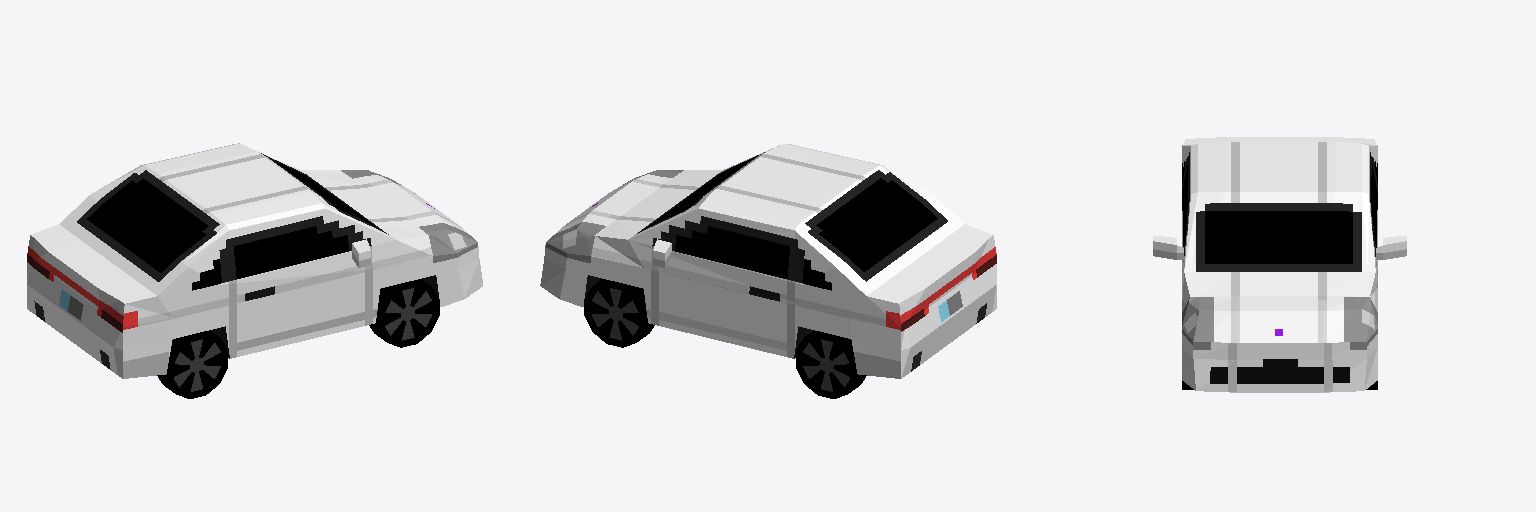
The picture shows the model from 3 angles: view 1: azimuth 30°, elevation 25°; view 2: azimuth 150°, elevation 25°; view 3: azimuth 270°, elevation 25°; orthographic projection.
Parts seen in each view (by area): view 1: body, cylinder; view 2: body, cylinder; view 3: body, mirror_left, mirror_right.
Part boxes in pixels (bbox=[...]): body: bbox=[27, 143, 482, 378]; cylinder: bbox=[157, 279, 439, 398]; body: bbox=[540, 144, 996, 378]; cylinder: bbox=[584, 279, 866, 398]; body: bbox=[1182, 137, 1377, 392]; mirror_left: bbox=[1376, 235, 1406, 259]; mirror_right: bbox=[1153, 235, 1183, 259].
Bounding box in the file's own units: 3.08 × 1.26 × 1.82.
2 materials, 2 textured.